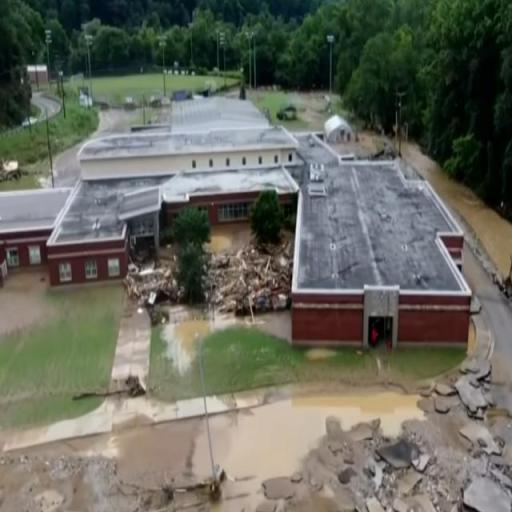flood: (209, 390, 424, 512), (405, 144, 512, 275), (72, 418, 211, 482), (161, 307, 245, 376), (206, 224, 253, 254), (263, 311, 290, 340)
house: (291, 144, 470, 348), (80, 134, 304, 174), (0, 181, 62, 286), (55, 203, 129, 280)
